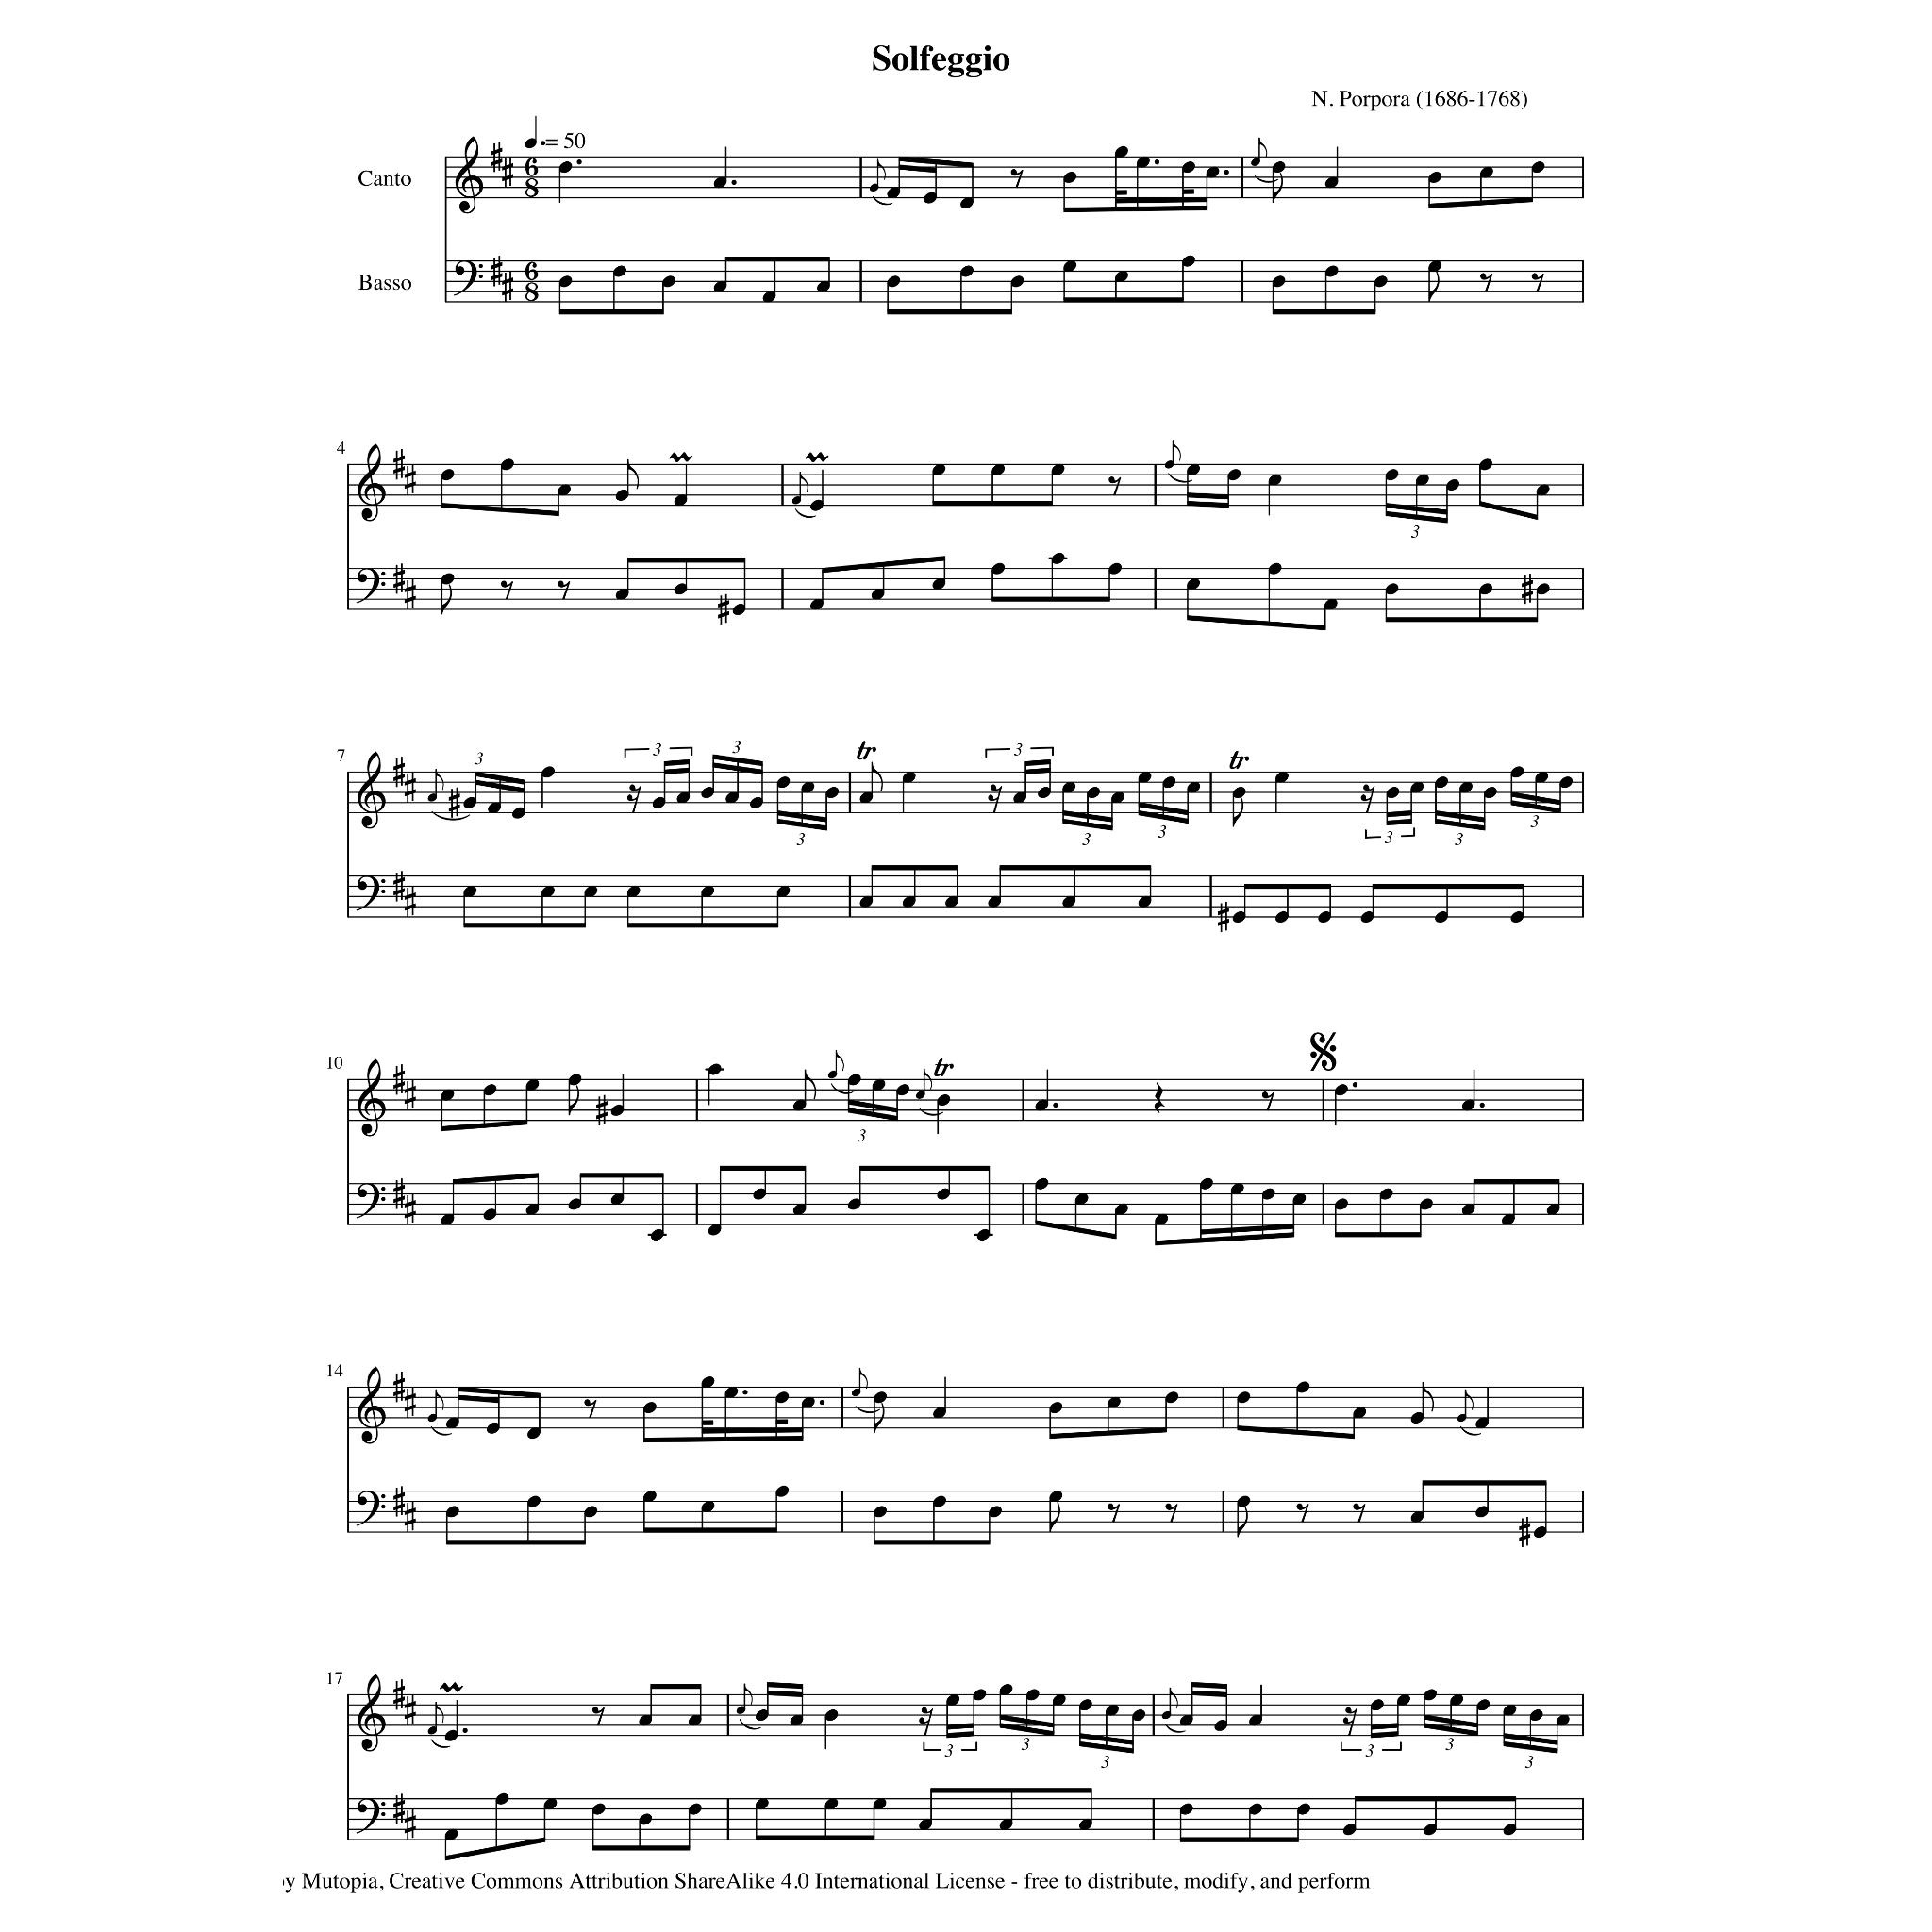fClef: (354, 1490, 386, 1527), (354, 1798, 386, 1835), (354, 568, 386, 603), (354, 876, 386, 911), (354, 1184, 386, 1219), (453, 260, 483, 295)
flag8thDown: (1428, 272, 1440, 303), (1272, 172, 1283, 203), (441, 584, 451, 616), (568, 1085, 579, 1115), (1237, 1507, 1247, 1537), (1049, 1502, 1060, 1532), (874, 1403, 885, 1433), (1233, 796, 1242, 828)
flag8thUp: (626, 460, 639, 490), (872, 763, 883, 793), (805, 1070, 816, 1100), (1422, 1382, 1433, 1412), (858, 1368, 867, 1391), (800, 472, 809, 494), (435, 770, 444, 791), (835, 1051, 844, 1072), (924, 1069, 932, 1090), (1465, 1389, 1474, 1410), (435, 1389, 444, 1410), (1169, 1688, 1178, 1709), (435, 1702, 444, 1723), (743, 1684, 752, 1706), (1260, 138, 1267, 159), (878, 159, 885, 180), (1173, 441, 1180, 462)
gClef: (357, 1366, 386, 1445), (455, 136, 483, 214), (357, 444, 386, 522), (357, 752, 386, 830), (357, 1060, 386, 1138), (357, 1674, 386, 1752)
noteheadBlack: (1270, 161, 1284, 173), (1270, 276, 1284, 288), (1136, 156, 1150, 168), (1113, 271, 1127, 283), (1113, 145, 1127, 157), (1205, 166, 1219, 179), (1180, 255, 1194, 267), (1180, 161, 1194, 173), (1530, 161, 1545, 173), (1373, 276, 1387, 288), (1428, 172, 1442, 184), (1323, 265, 1338, 278), (1323, 177, 1338, 189), (1479, 166, 1493, 179), (1428, 260, 1442, 272), (713, 177, 727, 189), (713, 281, 727, 294), (662, 276, 676, 288), (816, 281, 830, 294), (763, 290, 777, 303), (557, 276, 571, 288), (557, 161, 571, 173), (612, 265, 626, 278), (959, 265, 973, 278), (959, 196, 973, 209), (1063, 260, 1077, 272), (1063, 172, 1077, 184), (1010, 276, 1024, 288), (886, 188, 901, 200), (886, 276, 901, 288), (1187, 579, 1201, 591), (1187, 464, 1201, 476), (1323, 598, 1338, 610), (1226, 469, 1240, 481), (1267, 563, 1281, 575), (1267, 474, 1281, 487), (1108, 563, 1122, 575), (1051, 552, 1065, 564), (1051, 464, 1065, 476), (1415, 474, 1430, 487), (1445, 479, 1460, 492), (1384, 584, 1398, 596), (1384, 469, 1398, 481), (1536, 584, 1550, 596), (1536, 485, 1550, 497), (1477, 584, 1491, 596), (1477, 458, 1491, 471), (614, 587, 628, 600), (614, 488, 628, 501), (557, 485, 571, 497), (672, 584, 686, 596), (672, 495, 686, 508), (499, 458, 513, 471), (441, 573, 455, 586), (441, 469, 455, 481), (809, 598, 823, 610), (809, 499, 823, 511), (991, 464, 1005, 476), (932, 579, 947, 591), (932, 464, 947, 476), (870, 587, 885, 600), (731, 603, 745, 616), (991, 563, 1005, 575), (1037, 786, 1051, 798), (1231, 911, 1246, 924), (1318, 911, 1332, 924), (1274, 911, 1288, 924), (1274, 771, 1288, 784), (1109, 793, 1123, 805), (1085, 786, 1099, 798), (1062, 895, 1076, 908), (1062, 782, 1076, 794), (1231, 786, 1246, 798), (1187, 782, 1201, 794), (1138, 895, 1152, 908), (1138, 771, 1152, 784), (1559, 777, 1573, 789), (1433, 777, 1447, 789), (1458, 782, 1472, 794), (1433, 911, 1447, 924), (1410, 782, 1424, 794), (1385, 786, 1399, 798), (1534, 771, 1548, 784), (1483, 786, 1497, 798), (651, 796, 665, 809), (626, 885, 640, 897), (584, 885, 598, 897), (725, 793, 740, 805), (701, 885, 715, 897), (701, 786, 715, 798), (676, 793, 690, 805), (511, 807, 525, 819), (464, 885, 478, 897), (464, 796, 478, 809), (901, 895, 915, 908), (901, 771, 915, 784), (1012, 793, 1026, 805), (987, 895, 1001, 908), (945, 895, 959, 908), (824, 786, 839, 798), (777, 777, 791, 789), (777, 885, 791, 897), (800, 782, 814, 794), (858, 793, 872, 805), (748, 796, 763, 809), (858, 895, 872, 908), (1198, 1178, 1212, 1191), (1154, 1214, 1168, 1226), (1292, 1192, 1306, 1205), (1230, 1184, 1244, 1196), (1261, 1189, 1276, 1201), (1035, 1178, 1049, 1191), (1035, 1099, 1049, 1111), (977, 1228, 991, 1240), (1113, 1203, 1127, 1215), (1074, 1192, 1088, 1205), (1546, 1203, 1560, 1215), (1500, 1214, 1514, 1226), (1334, 1198, 1348, 1210), (1334, 1085, 1348, 1097), (1419, 1198, 1433, 1210), (1461, 1203, 1476, 1215), (1461, 1099, 1476, 1111), (1378, 1189, 1392, 1201), (610, 1104, 625, 1116), (525, 1203, 540, 1215), (708, 1224, 722, 1237), (708, 1063, 722, 1076), (649, 1228, 663, 1240), (525, 1079, 540, 1092), (610, 1192, 625, 1205), (441, 1090, 455, 1102), (441, 1214, 455, 1226), (483, 1085, 497, 1097), (483, 1208, 497, 1221), (847, 1074, 862, 1086), (847, 1198, 862, 1210), (870, 1079, 885, 1092), (936, 1189, 950, 1201), (936, 1093, 950, 1106), (895, 1085, 909, 1097), (752, 1189, 766, 1201), (793, 1099, 807, 1111), (793, 1203, 807, 1215), (1237, 1495, 1251, 1507), (1237, 1392, 1251, 1405), (932, 1407, 947, 1419), (1295, 1382, 1309, 1394), (1049, 1490, 1063, 1502), (1049, 1403, 1063, 1415), (989, 1506, 1003, 1518), (932, 1495, 947, 1507), (1106, 1396, 1120, 1408), (1532, 1525, 1546, 1537), (1410, 1412, 1424, 1424), (1410, 1511, 1424, 1523), (1352, 1407, 1366, 1419), (1476, 1506, 1490, 1518), (1476, 1417, 1490, 1430), (584, 1506, 598, 1518), (527, 1495, 541, 1507), (527, 1428, 541, 1440), (701, 1376, 715, 1389), (485, 1422, 499, 1435), (642, 1490, 656, 1502), (642, 1403, 656, 1415), (444, 1506, 458, 1518), (444, 1417, 458, 1430), (701, 1500, 715, 1513), (800, 1396, 814, 1408), (872, 1506, 886, 1518), (872, 1392, 886, 1405), (775, 1392, 789, 1405), (1249, 1803, 1263, 1815), (1249, 1714, 1263, 1727), (1214, 1720, 1228, 1732), (1341, 1824, 1355, 1836), (1295, 1803, 1309, 1815), (1132, 1709, 1146, 1721), (1104, 1704, 1118, 1716), (1077, 1819, 1092, 1831), (1178, 1714, 1192, 1727), (1178, 1803, 1192, 1815), (1555, 1714, 1569, 1727), (1449, 1693, 1463, 1706), (1422, 1824, 1437, 1836), (1422, 1690, 1437, 1702), (1396, 1693, 1410, 1706), (1529, 1709, 1543, 1721), (1502, 1824, 1516, 1836), (1502, 1704, 1516, 1716), (639, 1813, 653, 1826), (639, 1714, 653, 1727), (591, 1803, 605, 1815), (1051, 1693, 1065, 1706), (686, 1803, 701, 1815), (686, 1714, 701, 1727), (495, 1792, 510, 1805), (444, 1829, 458, 1842), (444, 1730, 458, 1743), (945, 1693, 959, 1706), (918, 1819, 932, 1831), (1024, 1690, 1039, 1702), (998, 1819, 1012, 1831), (971, 1690, 985, 1702), (754, 1709, 768, 1721), (789, 1714, 803, 1727), (824, 1709, 839, 1721), (1361, 911, 1373, 924), (1162, 777, 1175, 789), (1511, 911, 1523, 924), (1511, 766, 1523, 778), (541, 885, 554, 897), (541, 766, 554, 778), (488, 801, 501, 814), (568, 1074, 580, 1086), (568, 1198, 580, 1210), (1166, 1392, 1178, 1405), (924, 193, 938, 203), (775, 1486, 789, 1497), (724, 1387, 738, 1398), (1369, 1700, 1384, 1711), (1077, 1700, 1092, 1711), (1476, 1700, 1490, 1711), (543, 1799, 557, 1810), (872, 1799, 886, 1810), (998, 1684, 1012, 1695), (754, 1799, 768, 1810), (824, 1799, 839, 1810), (1249, 157, 1260, 166), (1164, 460, 1175, 469), (791, 497, 801, 506), (1456, 1414, 1467, 1422), (426, 1414, 437, 1422), (1161, 1711, 1171, 1720), (426, 1727, 437, 1736), (869, 184, 878, 193), (828, 1070, 837, 1079), (736, 1706, 745, 1714), (426, 794, 437, 801), (915, 1092, 925, 1099), (851, 1389, 862, 1396)
rest16th: (626, 784, 642, 814), (1361, 784, 1375, 814), (987, 784, 1001, 814), (1343, 1707, 1357, 1736), (918, 1707, 932, 1736)
rest8th: (1530, 272, 1545, 294), (1479, 272, 1493, 294), (1010, 170, 1024, 189), (1295, 1504, 1309, 1523), (1106, 1504, 1120, 1523), (1352, 1504, 1366, 1523), (591, 1707, 605, 1727), (1108, 478, 1120, 497), (557, 580, 570, 600), (501, 580, 513, 600), (1261, 1092, 1274, 1111), (1164, 1504, 1177, 1523), (584, 1399, 596, 1419)
restQuarter: (1154, 1083, 1166, 1115)
